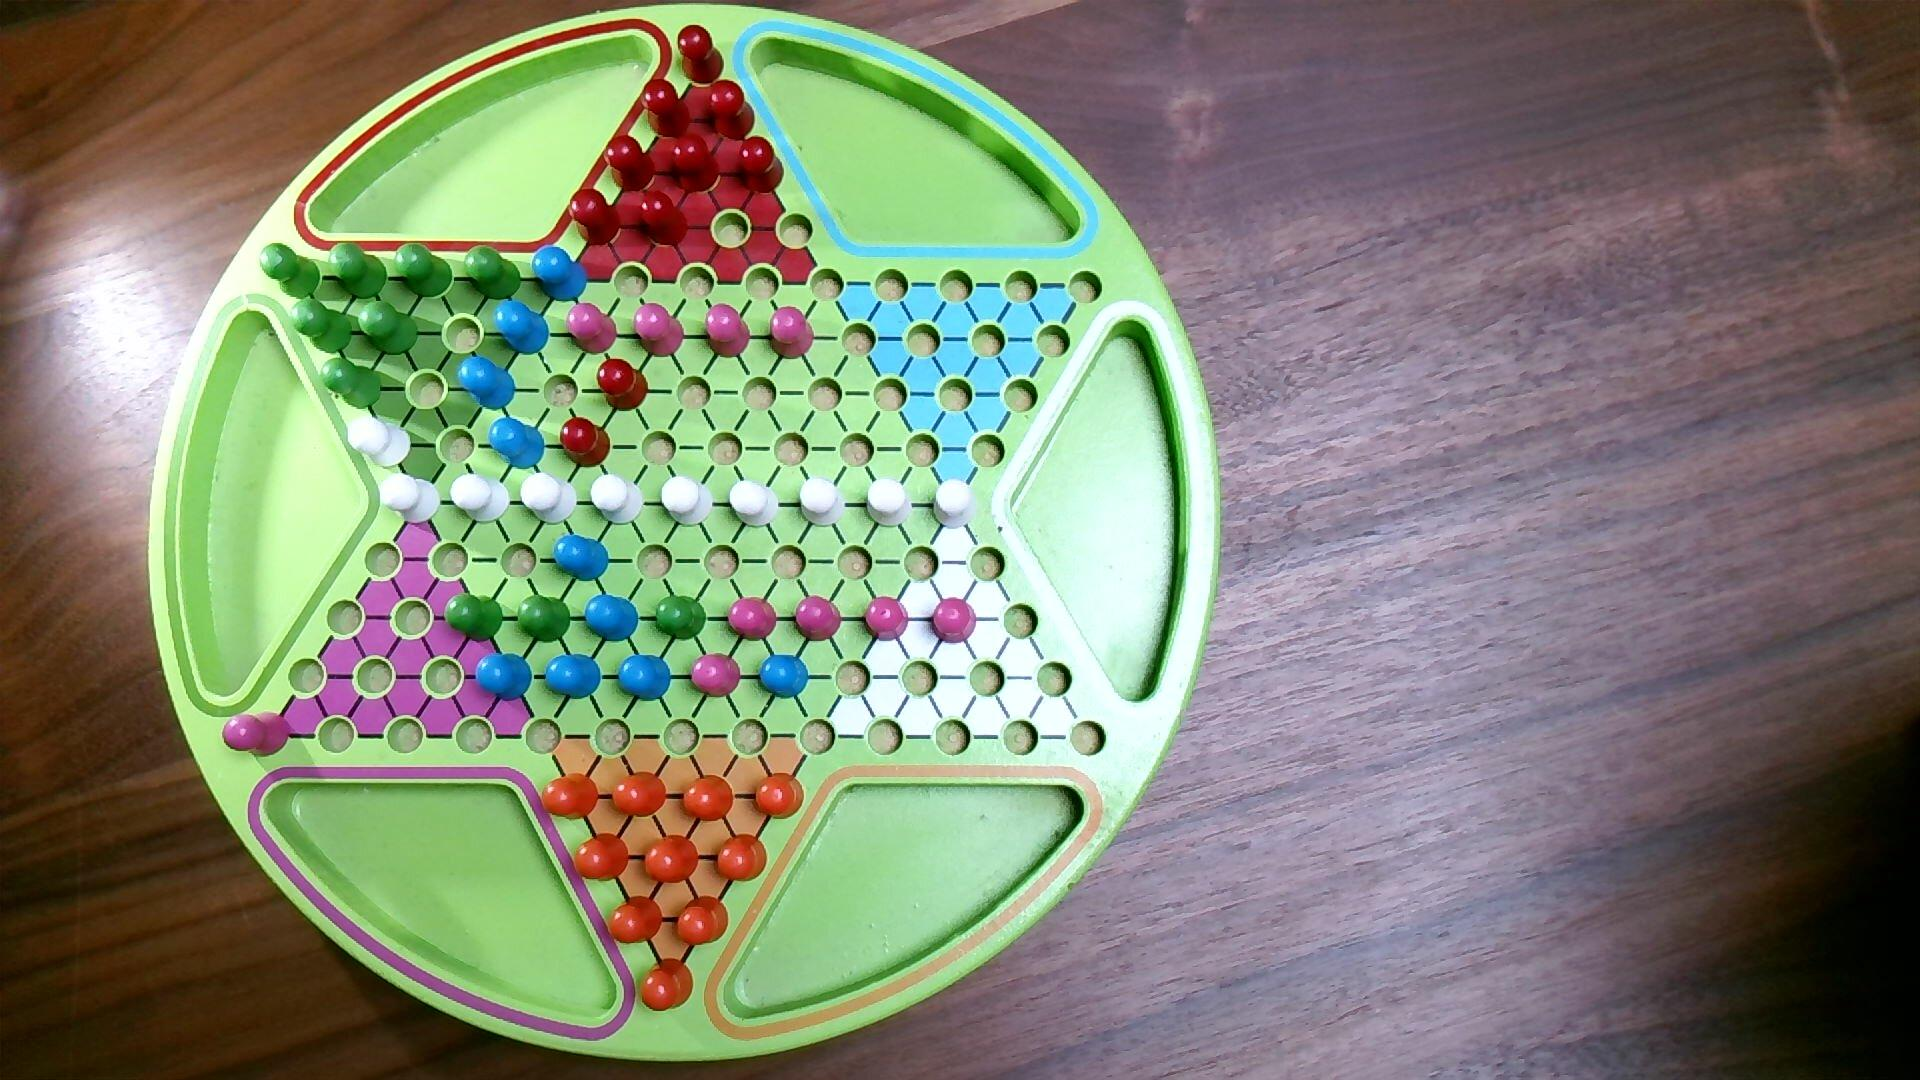B: (458, 353, 520, 413), (495, 298, 553, 357), (531, 245, 589, 305), (489, 415, 549, 472), (476, 651, 535, 704), (583, 593, 642, 645), (543, 651, 604, 702), (617, 651, 674, 704), (553, 534, 612, 584), (760, 651, 811, 702)
G: (257, 240, 324, 302), (289, 295, 356, 357), (393, 239, 458, 302), (327, 241, 390, 302), (357, 299, 421, 359), (463, 243, 524, 303), (320, 356, 385, 411), (444, 589, 506, 646), (517, 593, 574, 645), (654, 593, 709, 644)
O: (640, 953, 698, 1015), (541, 771, 604, 824), (572, 831, 632, 885), (604, 895, 666, 947), (611, 767, 670, 820), (644, 833, 702, 886), (713, 832, 771, 885), (676, 894, 731, 949), (680, 773, 737, 825), (754, 771, 807, 822)
R: (640, 74, 694, 142), (567, 186, 624, 249), (604, 132, 658, 194), (671, 131, 723, 195), (707, 78, 758, 142), (637, 189, 690, 251), (596, 356, 651, 414), (676, 22, 727, 86), (737, 135, 787, 196), (559, 415, 612, 471)
R2: (222, 709, 294, 761), (633, 301, 687, 361), (564, 299, 620, 356), (767, 305, 818, 361), (704, 302, 753, 360), (793, 593, 845, 645), (727, 595, 781, 644), (691, 651, 742, 702), (928, 596, 980, 646), (862, 593, 913, 644)
W: (345, 414, 414, 469), (378, 472, 443, 527), (520, 469, 580, 527), (448, 472, 514, 525), (661, 473, 716, 530), (589, 473, 647, 527), (729, 477, 781, 530), (931, 477, 978, 531), (866, 476, 914, 530), (799, 476, 847, 527)
